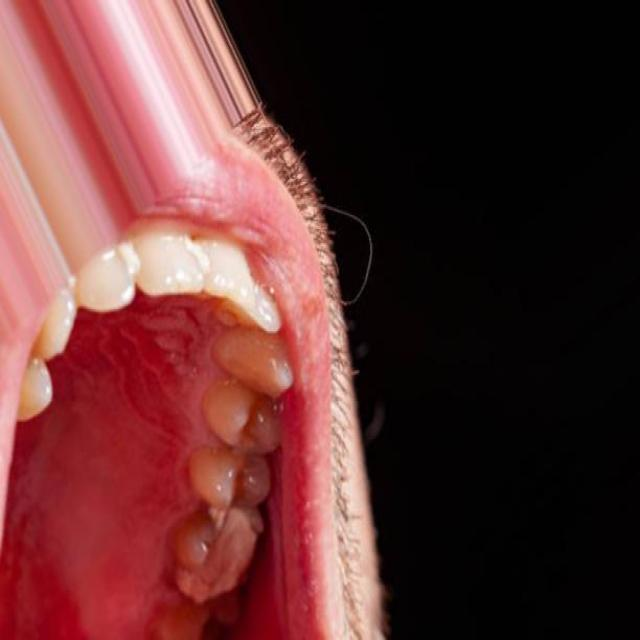caries: (179, 504, 259, 604)
